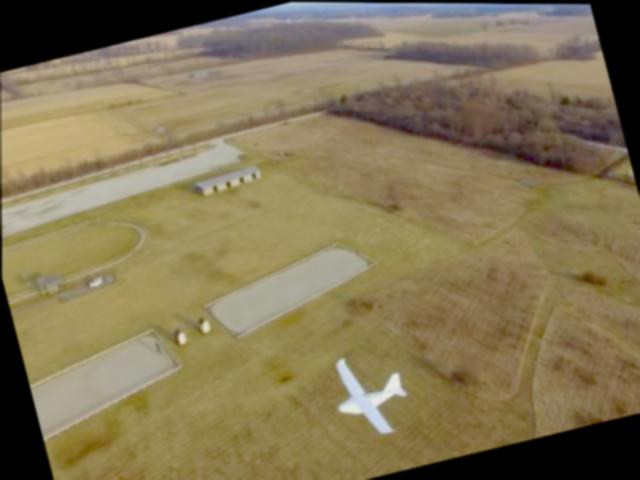uav: (319, 337, 422, 450)
